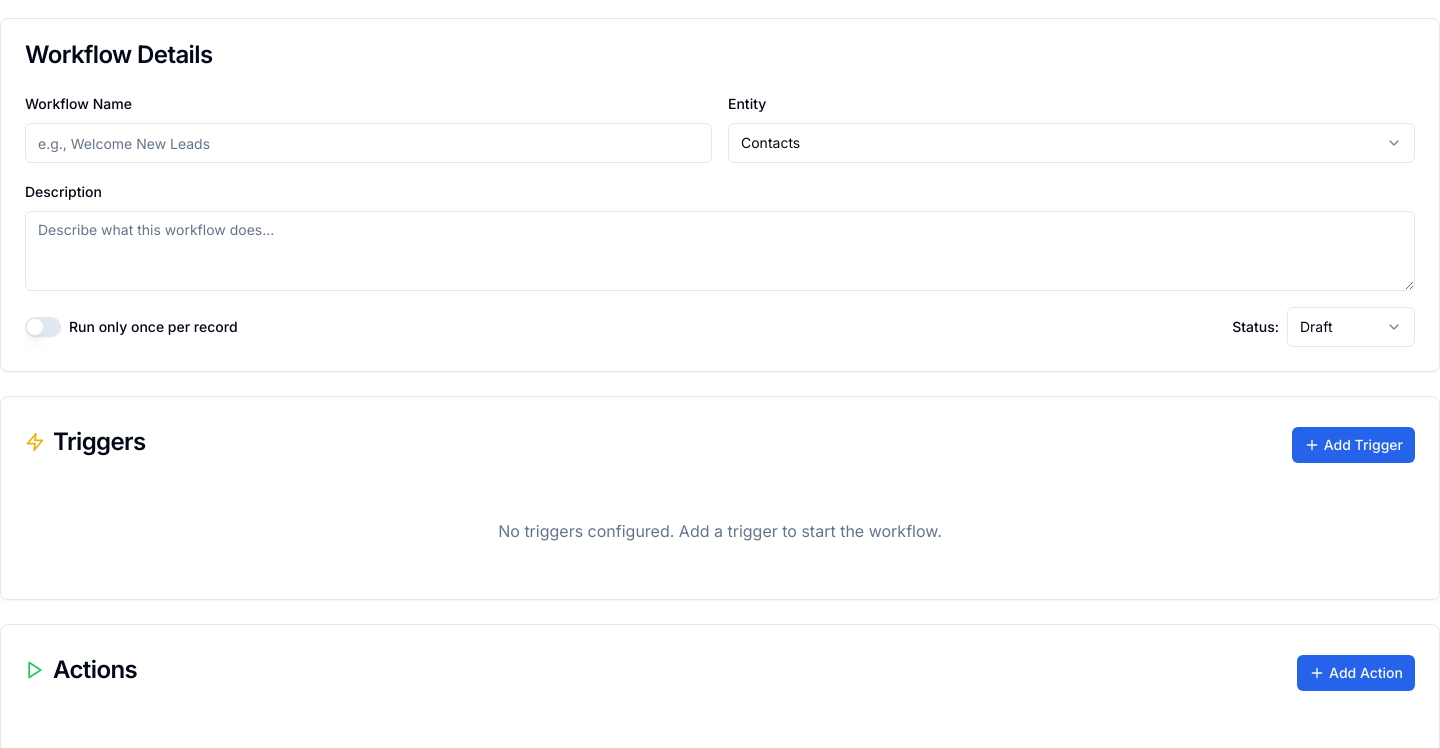
Test: WorkflowBuilder › actions › should show action position badge
Click the button "Add Action" at (1356, 673), box x1=1297 y1=655 x2=1415 y2=691
(page scrolled)
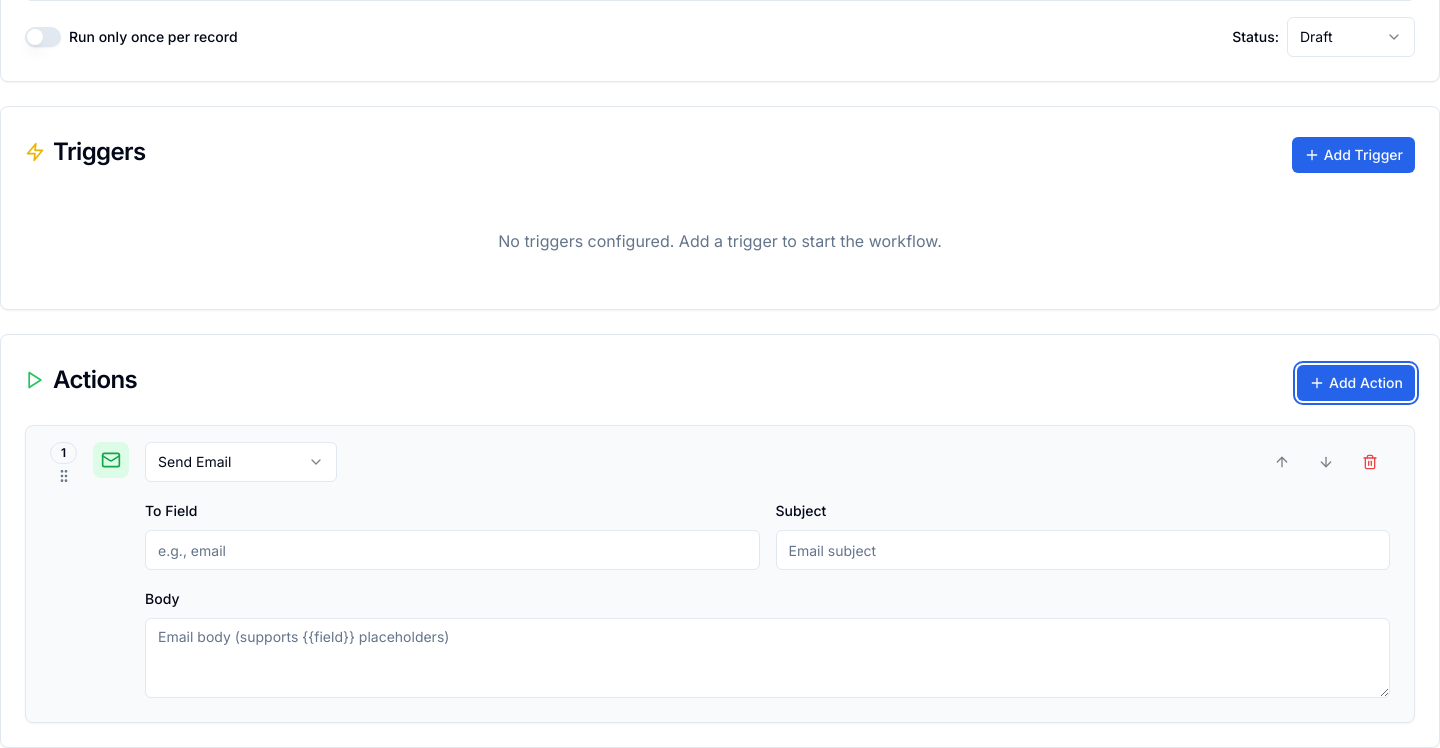
Now the text "1" is shown, box x1=50 y1=442 x2=77 y2=464
